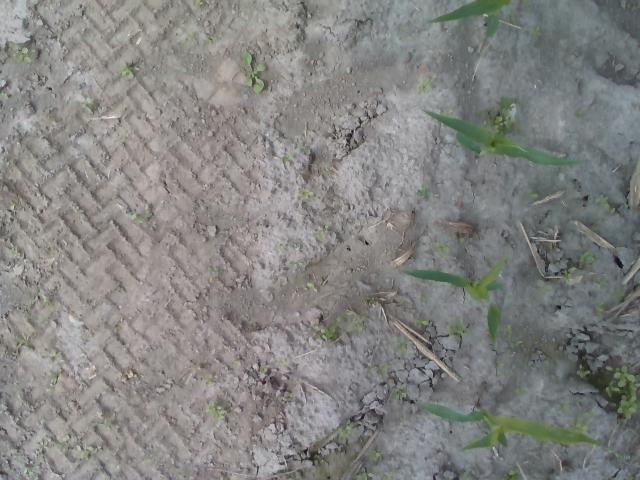Maize: (412, 395, 610, 456), (419, 108, 583, 172), (399, 255, 508, 348), (432, 1, 511, 40)
Weeds: (602, 365, 640, 423), (314, 308, 368, 342), (561, 402, 604, 434), (239, 48, 265, 92), (592, 276, 628, 300), (38, 431, 82, 450), (278, 142, 310, 166), (28, 296, 55, 324), (594, 191, 620, 220), (8, 39, 36, 64), (24, 450, 46, 480), (487, 111, 518, 132), (445, 317, 470, 340), (559, 261, 581, 285), (130, 209, 156, 229), (186, 29, 216, 46), (116, 57, 138, 79), (336, 420, 358, 442), (534, 278, 558, 298), (205, 402, 230, 420), (79, 442, 99, 464), (391, 382, 411, 404), (13, 332, 35, 352), (578, 246, 598, 267), (348, 466, 378, 480), (364, 443, 384, 464), (295, 183, 317, 202), (205, 262, 228, 280), (46, 367, 66, 387), (574, 361, 594, 381), (502, 466, 530, 480), (588, 300, 608, 319), (96, 411, 115, 430), (416, 74, 436, 92), (414, 184, 434, 202), (81, 98, 99, 117), (6, 196, 30, 210), (312, 225, 331, 242), (298, 278, 320, 292), (372, 364, 392, 379), (415, 318, 433, 334), (432, 244, 452, 258), (513, 383, 531, 397), (46, 350, 64, 363), (257, 362, 273, 376), (203, 373, 220, 386), (530, 26, 543, 43), (278, 240, 290, 252), (0, 88, 10, 100), (143, 456, 154, 466), (194, 0, 206, 9)
